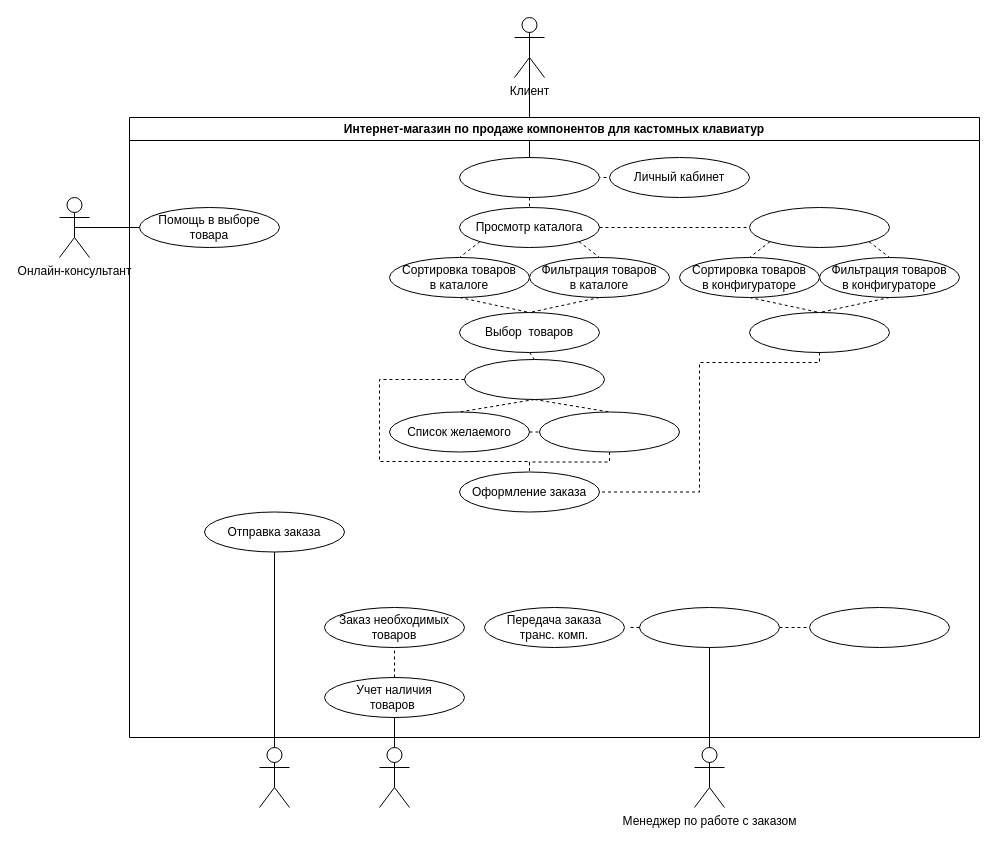
This 997x846 diagram has some shape labels left out. Each missing label, with the box of its shape:
Выбор компонентов: (748, 312, 890, 352)
Завскладом: (378, 746, 410, 808)
Конфигуратор компонентов: (748, 206, 890, 248)
Корзина: (538, 411, 680, 452)
Передача информации о заказе покупателю: (808, 606, 950, 648)
Регистрация на сайте магазина: (458, 156, 600, 198)
Создание заказа: (638, 606, 780, 648)
Страница товара: (464, 358, 604, 400)
Транспортная компания: (258, 746, 290, 808)
